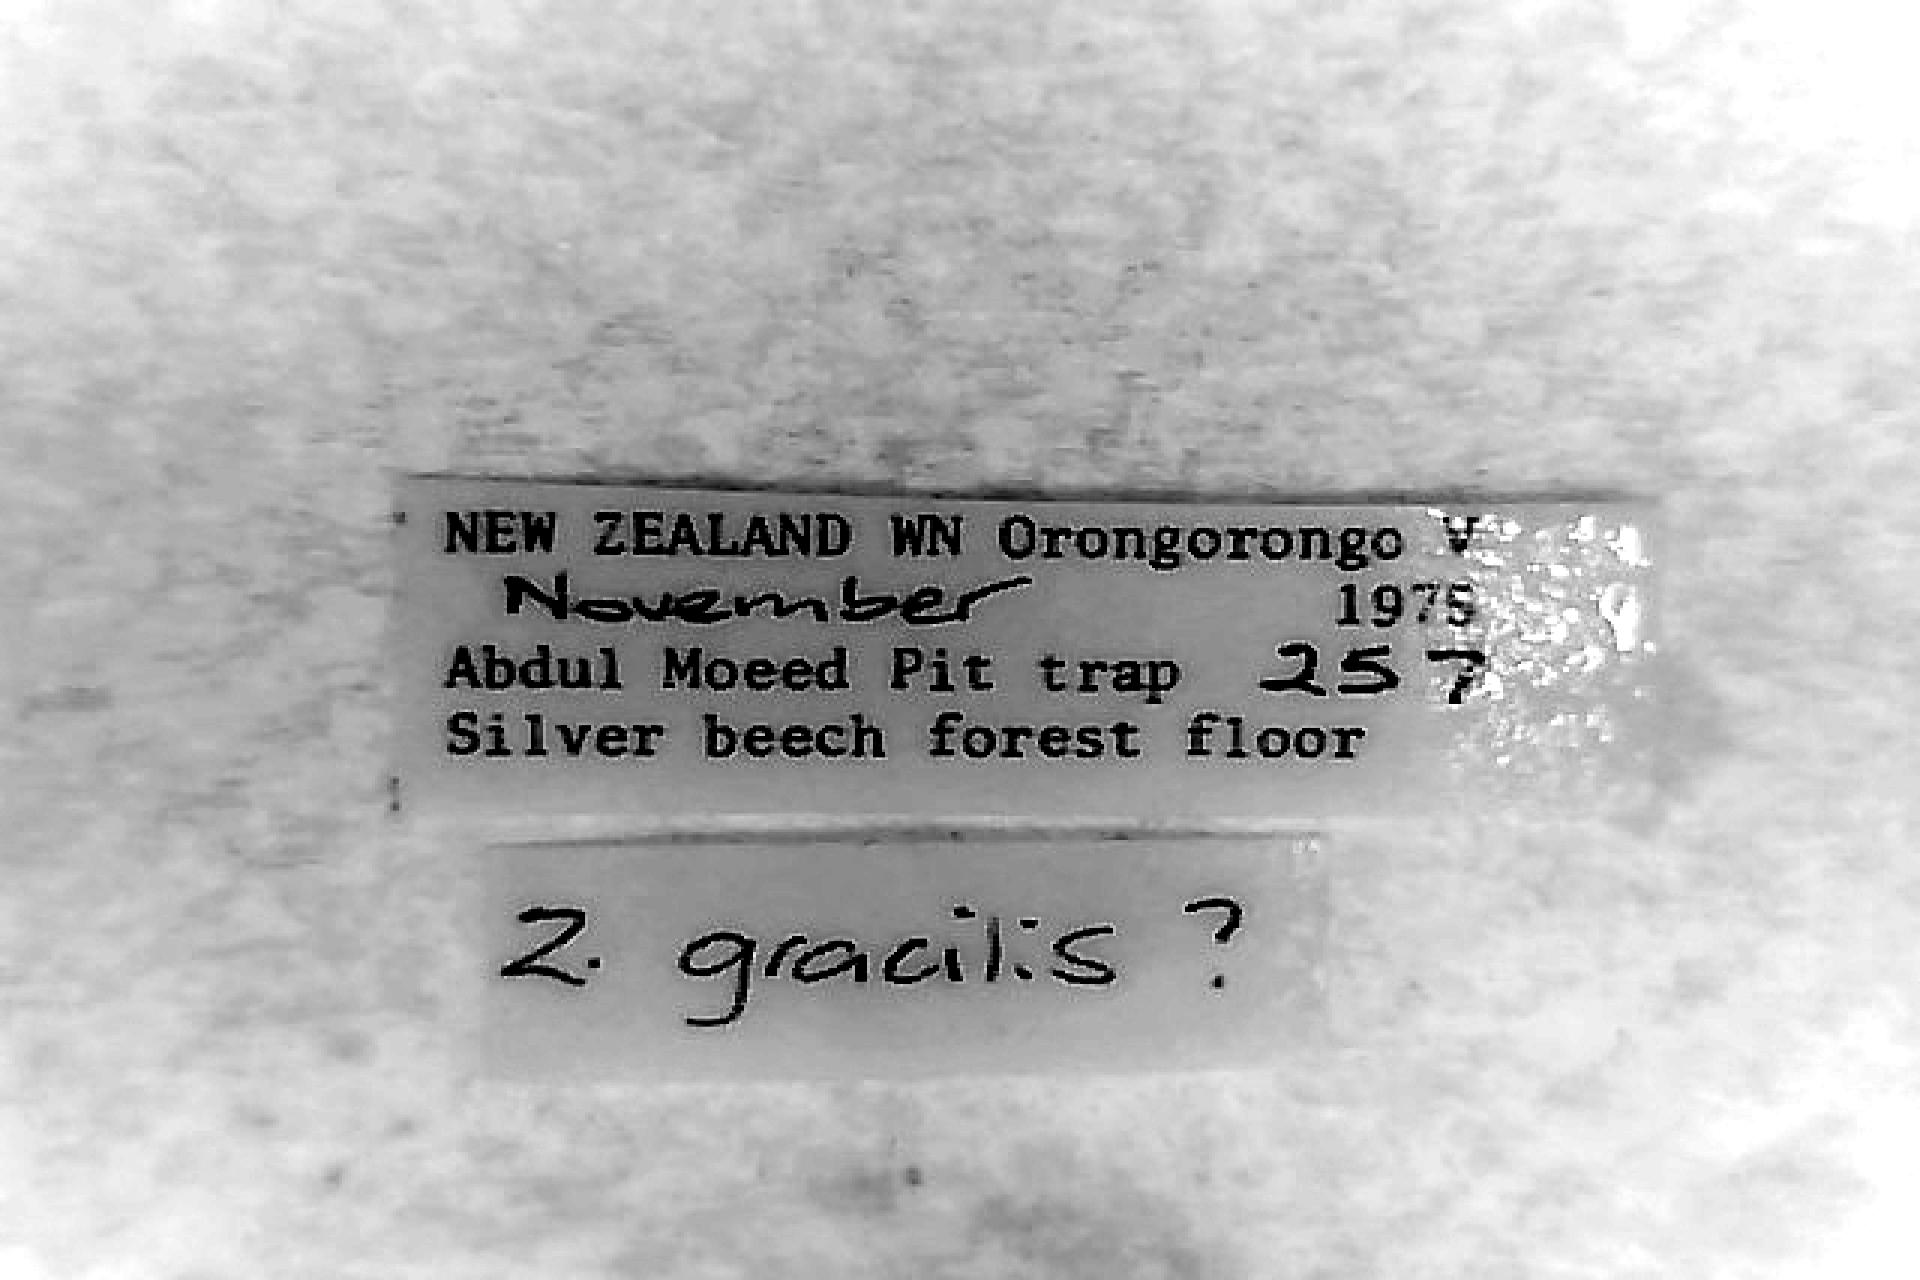hand_label: (488, 837, 1328, 1078)
mixed_label: (403, 482, 1658, 818)
